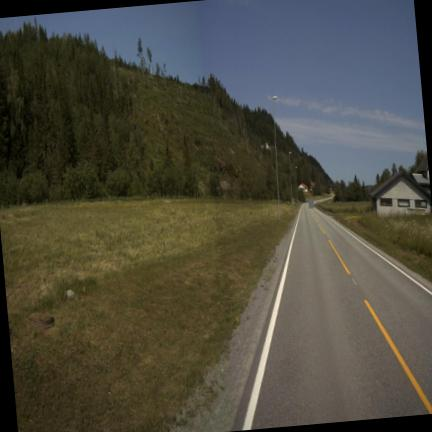Road: (236, 204, 431, 428)
